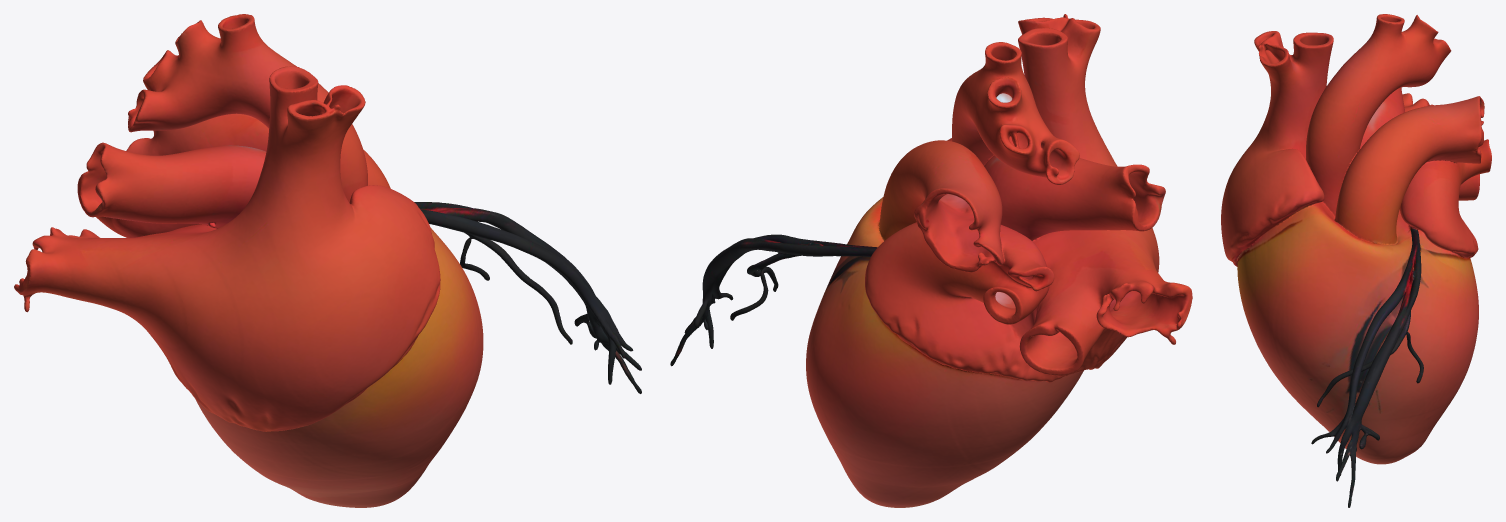
Rendered from heart-tweaked-prompt.glb.
The picture shows the model from 3 angles, left to right: view 1: azimuth 30°, elevation 25°; view 2: azimuth 150°, elevation 25°; view 3: azimuth 270°, elevation 25°; orthographic projection. The views are drawn at different scales.
Parts seen in each view (by area): view 1: tripo_node_68847b07-8cbf-43d3-b020-9f1fb007db82; view 2: tripo_node_68847b07-8cbf-43d3-b020-9f1fb007db82; view 3: tripo_node_68847b07-8cbf-43d3-b020-9f1fb007db82.
Part boxes in pixels (box(x1,y1,x2,y2)): tripo_node_68847b07-8cbf-43d3-b020-9f1fb007db82: box(14, 14, 641, 507); tripo_node_68847b07-8cbf-43d3-b020-9f1fb007db82: box(670, 14, 1192, 507); tripo_node_68847b07-8cbf-43d3-b020-9f1fb007db82: box(1221, 14, 1491, 507).
Size of the model in its own units: 1 by 0.8342 by 0.5166.
Materials: 1 (1 with a texture image).
